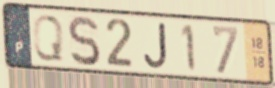1: (180, 24, 199, 73)
2: (104, 17, 135, 71)
7: (211, 23, 241, 78)
J: (142, 21, 170, 71)
Q: (31, 13, 65, 63)
S: (66, 13, 103, 68)
